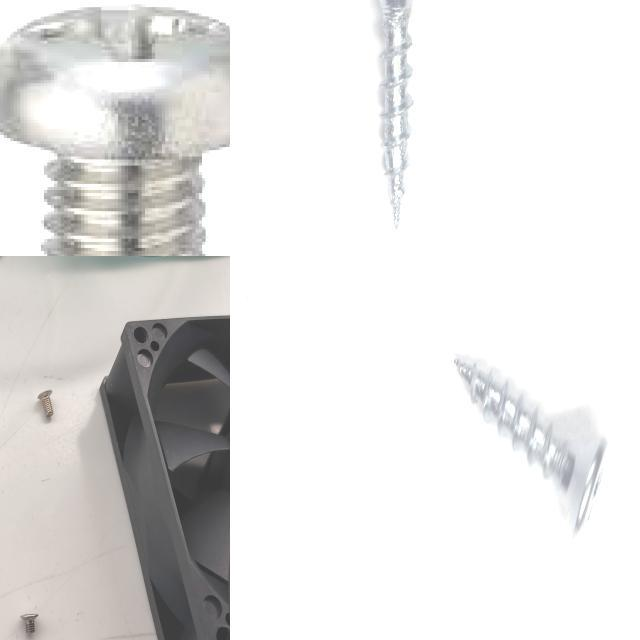Screw: (0, 4, 230, 256), (454, 358, 609, 546), (357, 0, 431, 231), (35, 387, 58, 423), (18, 610, 41, 638)
